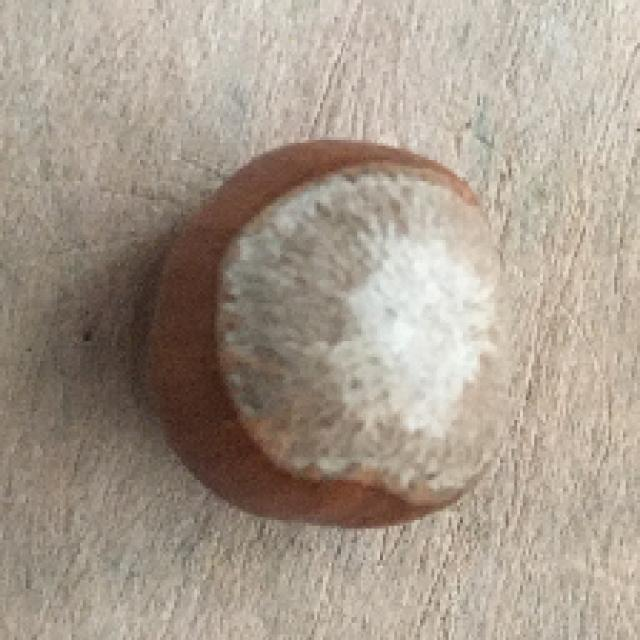QualityHazelnut: (146, 139, 519, 535)
